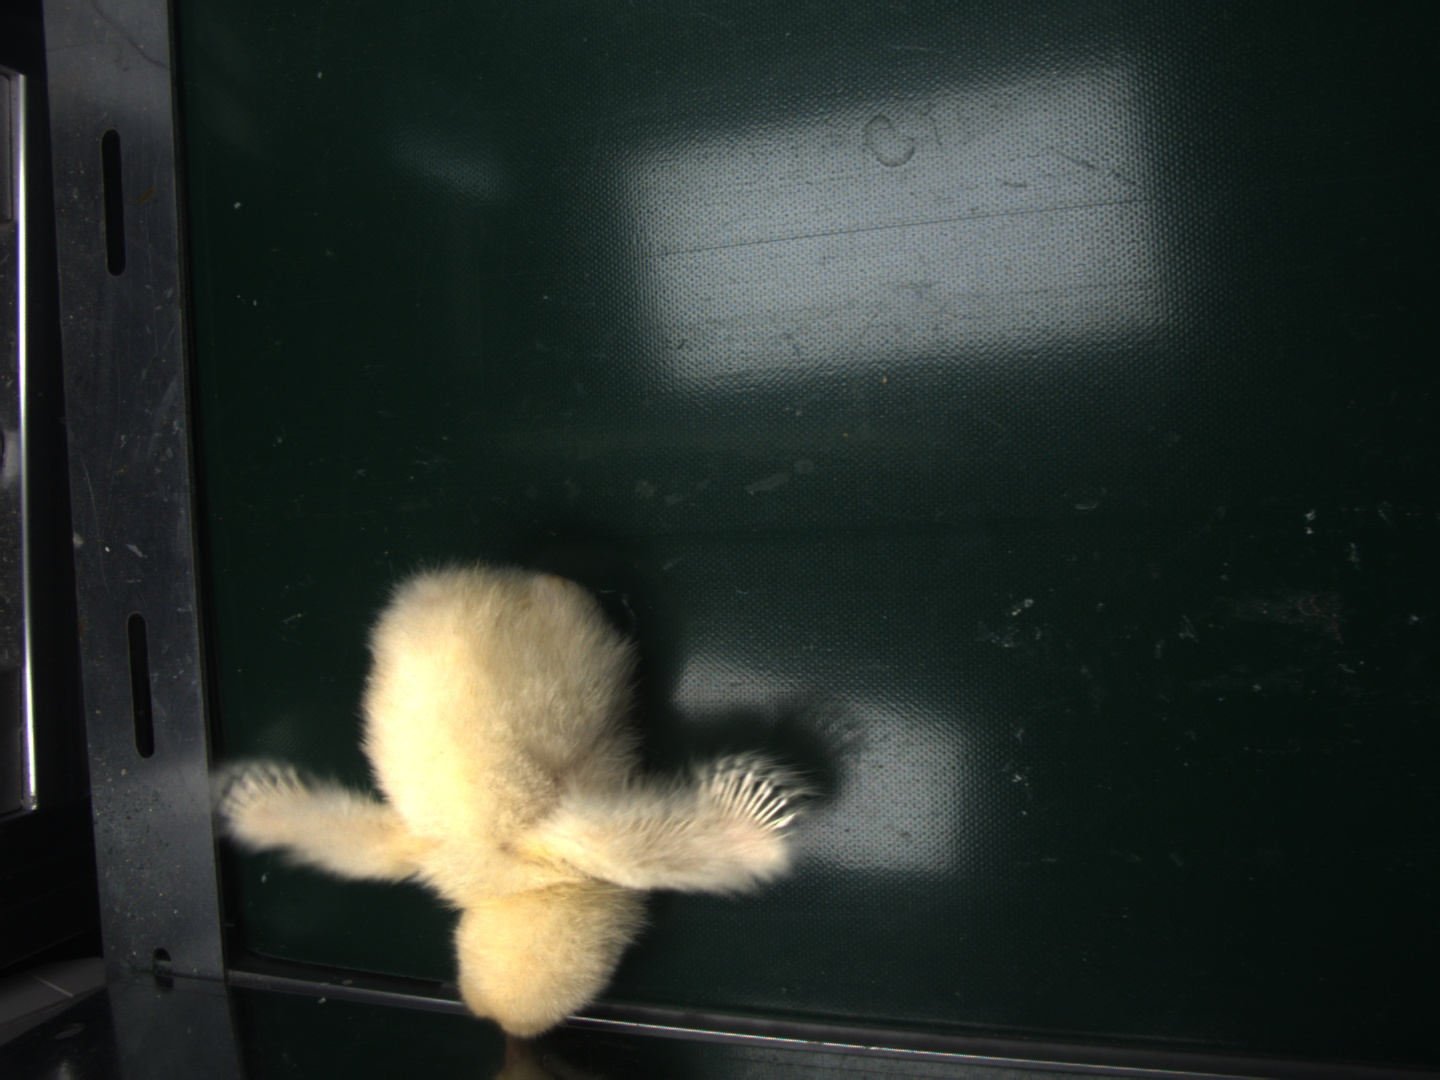male: (708, 766, 797, 835)
